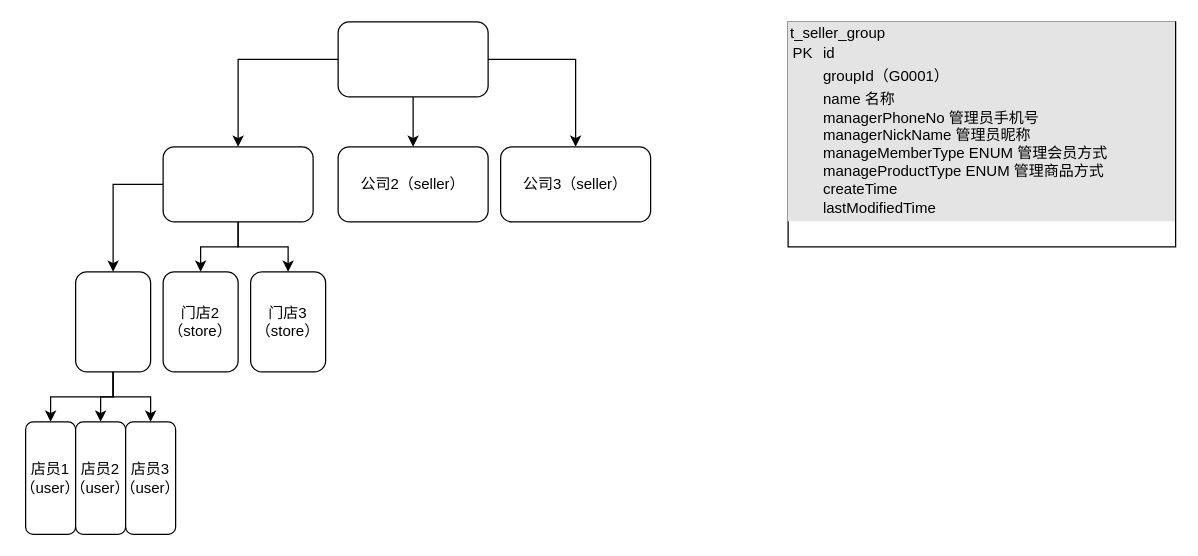
Some shapes in this 1198 by 556 pixel diagram are drawn without their labels. Each missing label, with the box of its shape:
公司1（seller）: (162, 146, 313, 222)
门店1（store）: (74, 271, 151, 372)
集团（group）: (337, 21, 488, 97)
